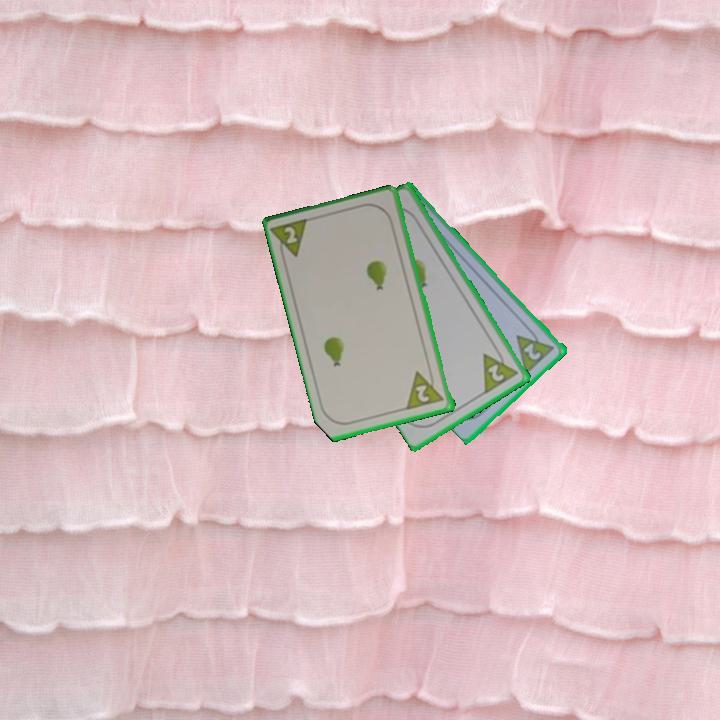2p: (479, 343, 522, 396), (269, 215, 313, 264), (404, 365, 447, 413), (520, 340, 545, 363)
